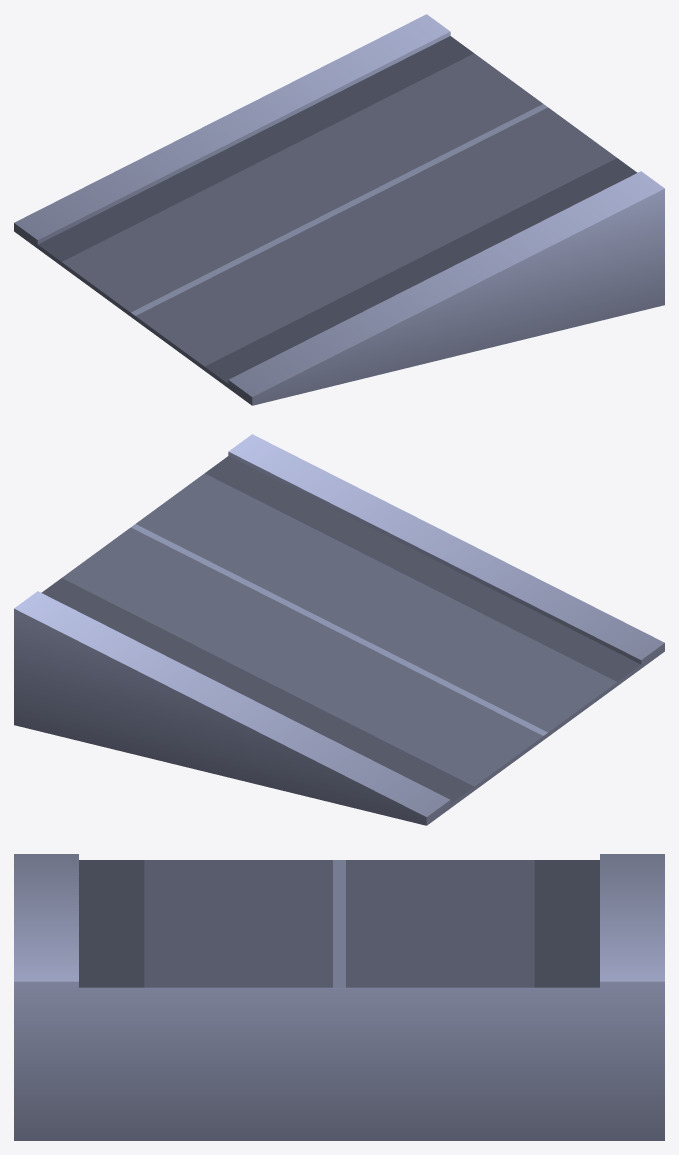
Rendered from road-slant.glb.
The picture shows the model from 3 angles, top to bottom: view 1: azimuth 30°, elevation 25°; view 2: azimuth 150°, elevation 25°; view 3: azimuth 270°, elevation 25°; orthographic projection. The views are drawn at different scales.
Parts seen in each view (by area): view 1: road-slant; view 2: road-slant; view 3: road-slant.
Part boxes in pixels (x1,y1,x2,y2): road-slant: [14, 14, 664, 405]; road-slant: [14, 434, 664, 825]; road-slant: [14, 854, 664, 1140].
Bounding box in the file's own units: 1 × 0.27 × 1.
1 material, 1 textured.
